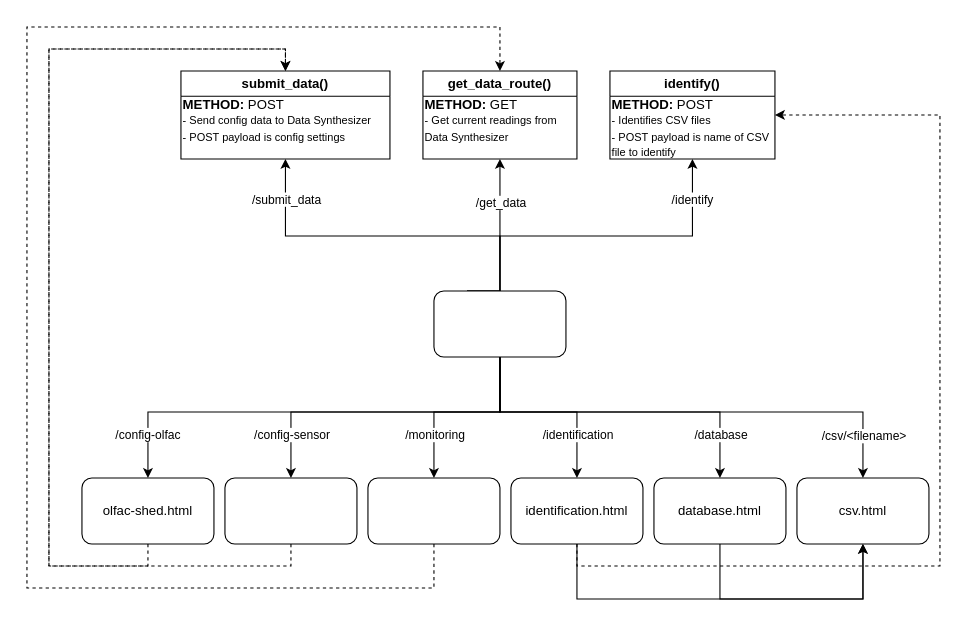
Image size: 968x627. Some labels were removed from this diagram. The centre of each missing label's shape, as x and y in pixels:
"/ (index.html)" goes at (x=499, y=323).
"monitoring.html" goes at (x=433, y=510).
"sensor-shed.html" goes at (x=290, y=510).
